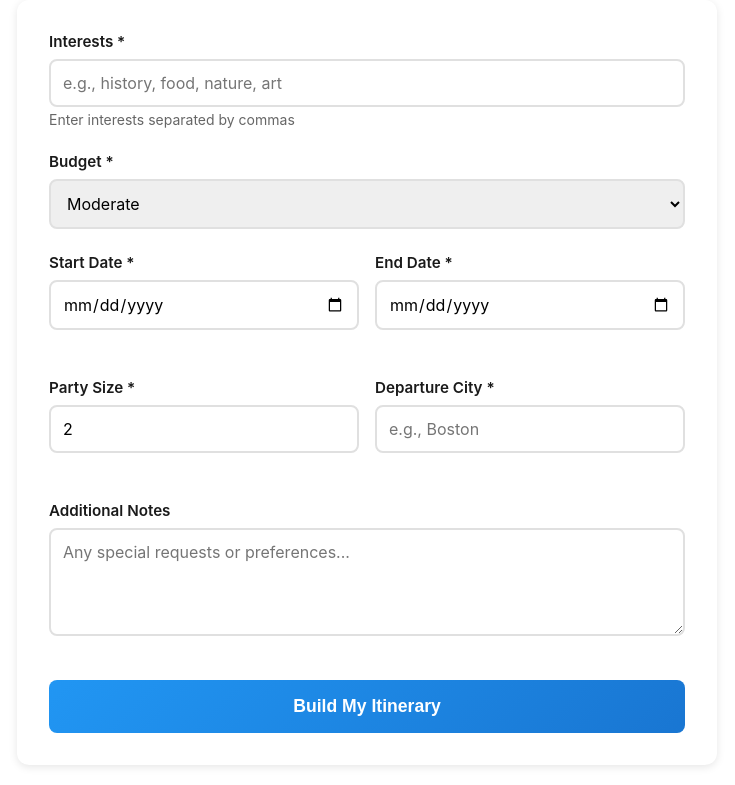
Test: CustomerForm › should default the end date to the selected start date when empty
This screenshot has width=735, height=785.
Type "2026-07-01" into the date field labelled "Start Date *" at (204,305), box x1=49 y1=280 x2=359 y2=330
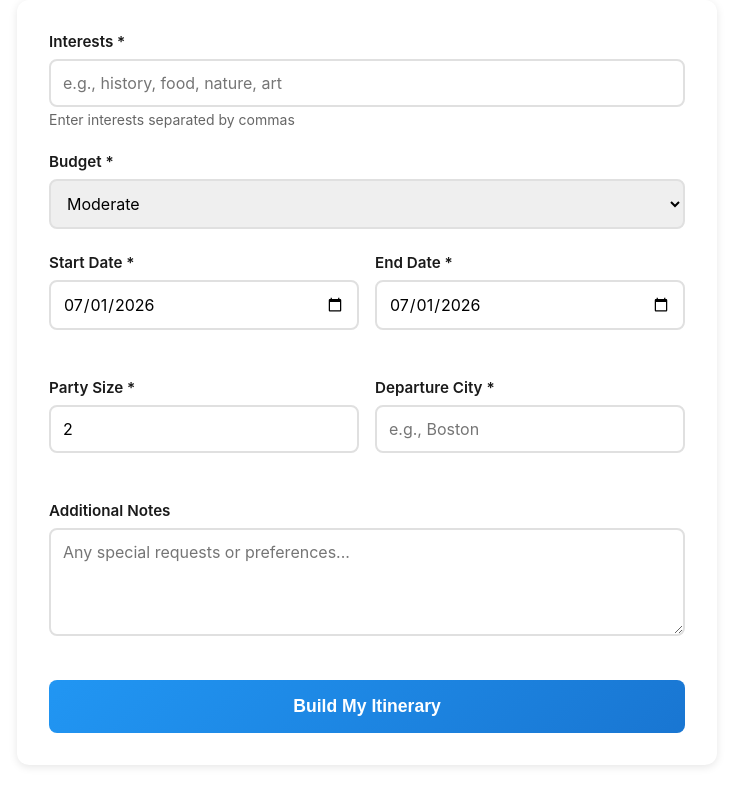
Expected: the date field labelled "End Date *" holds "2026-07-01", x1=375 y1=280 x2=685 y2=330
